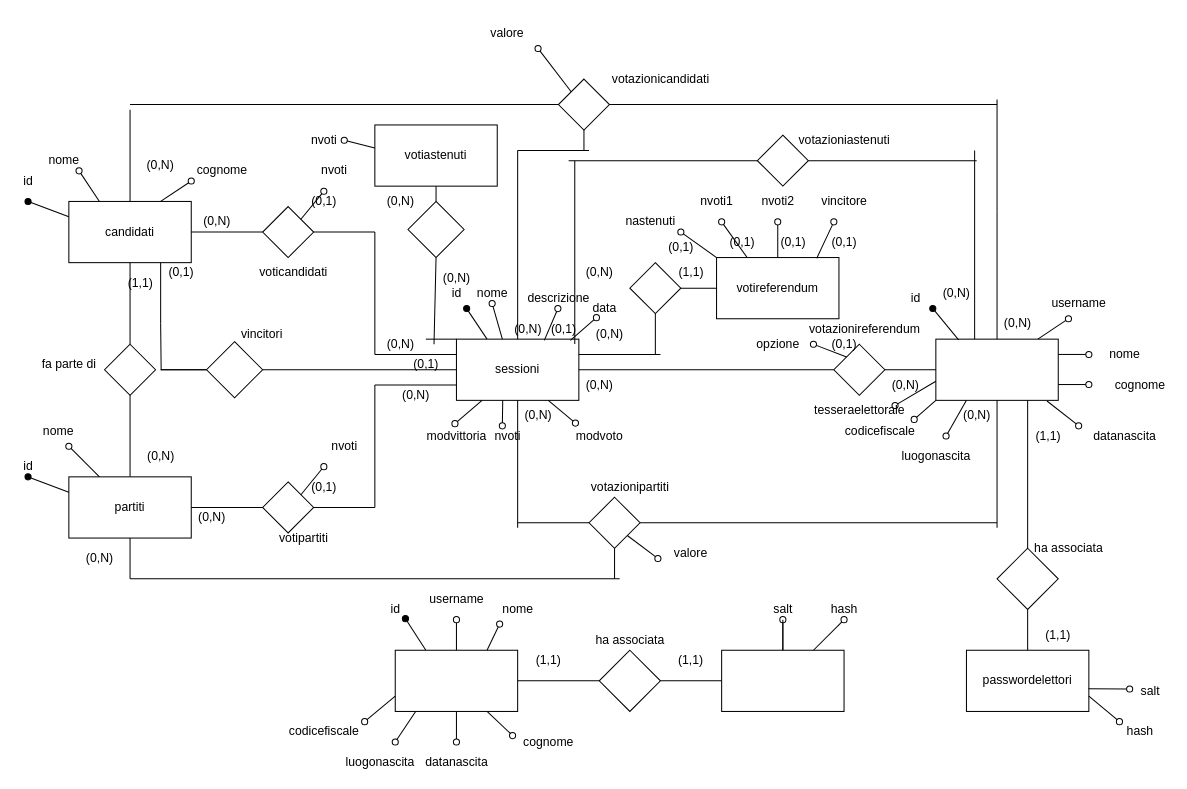
Some shapes in this 1187 by 789 pixel diagram are drawn without their labels. Each missing label, with the centre of its shape:
elettori: the point at 996,369
gestori: the point at 456,680
passwordgestori: the point at 782,680
